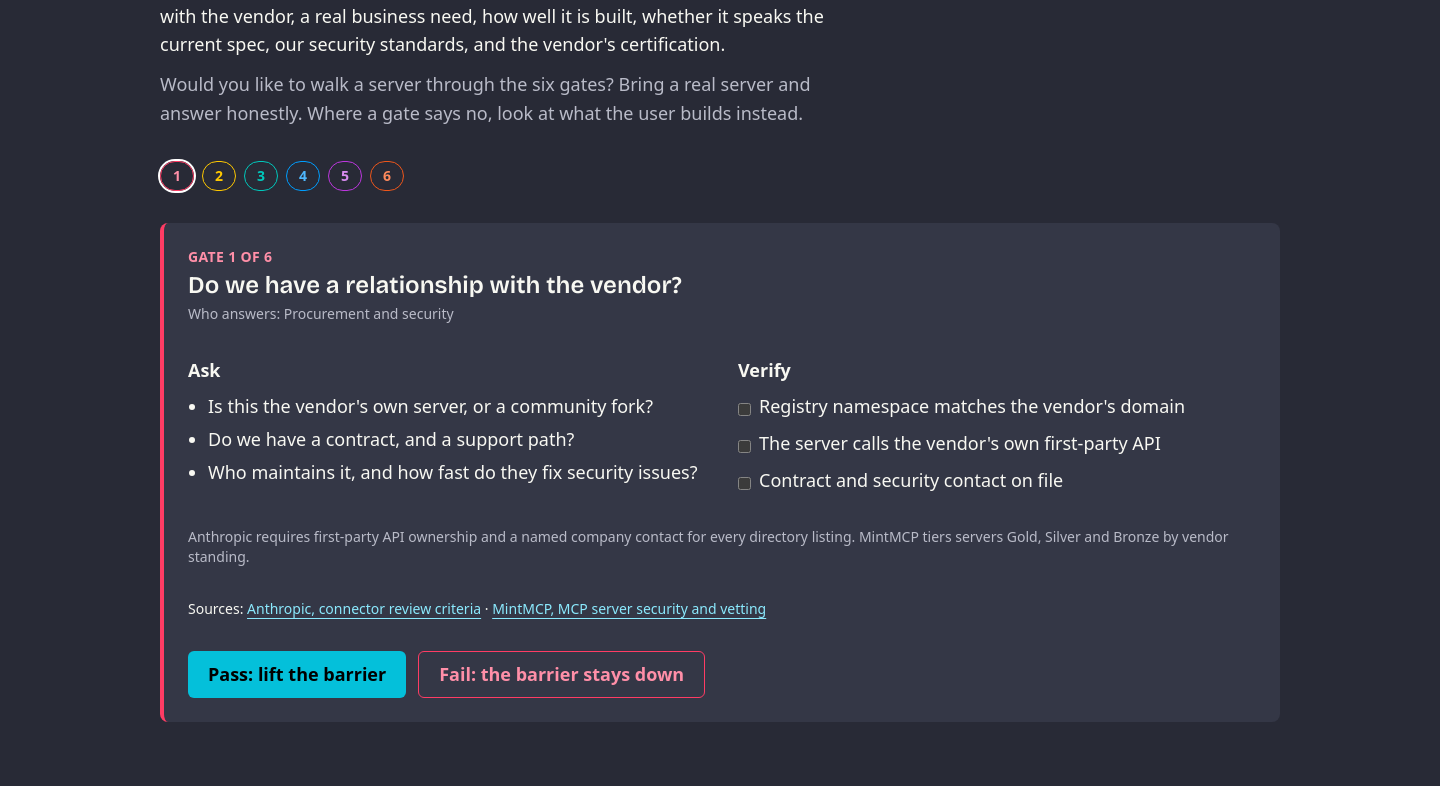
the gate walk › shows the side alley when a gate fails
The width and height of the screenshot is (1440, 786).
(page scrolled)
Click the button "Pass: lift the barrier" at point(297, 674), box [188,651,406,698]
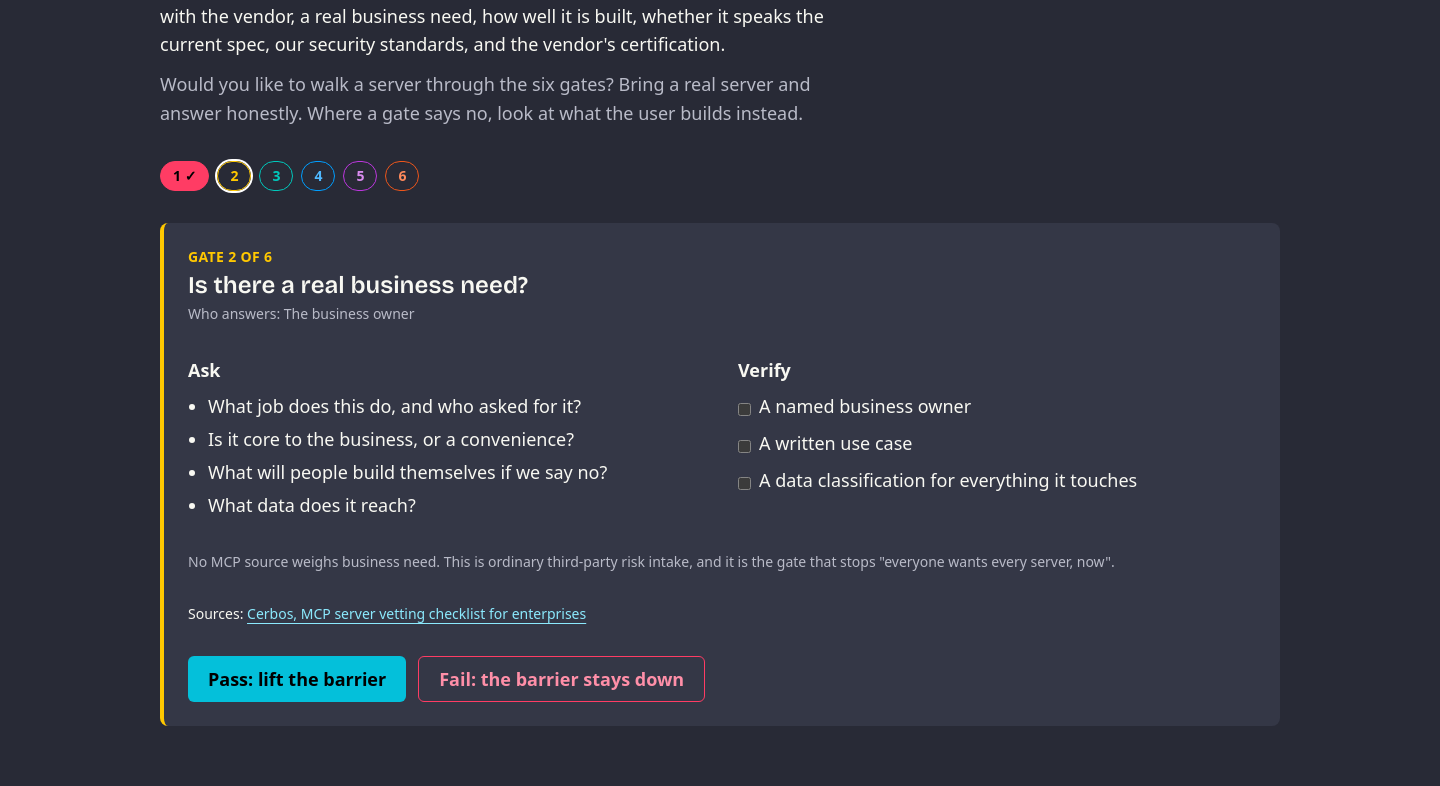
Click the button "Pass: lift the barrier" at point(297, 679), box [188,656,406,702]
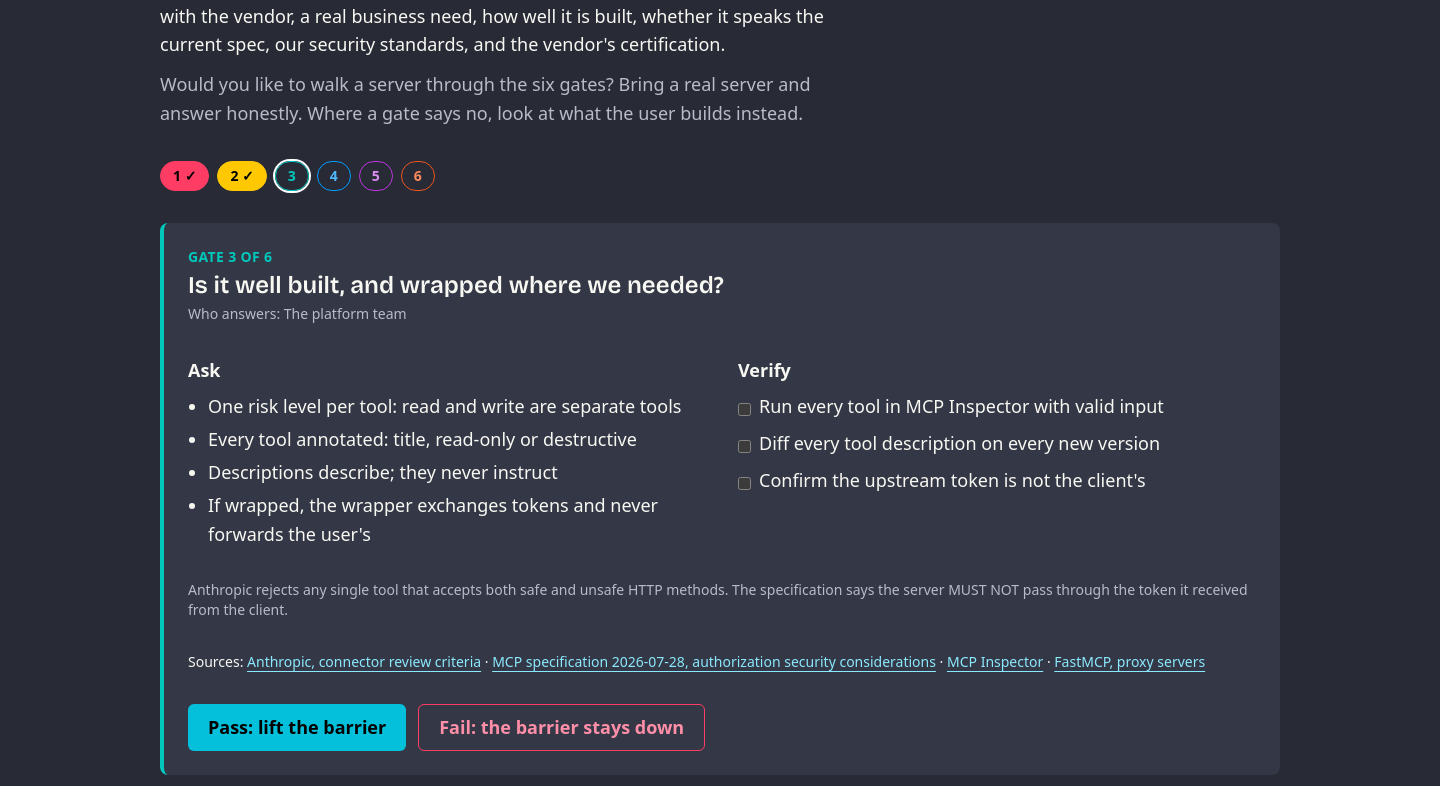
Click the button "Fail: the barrier stays down" at point(562, 728), box [418,704,705,751]
(page scrolled)
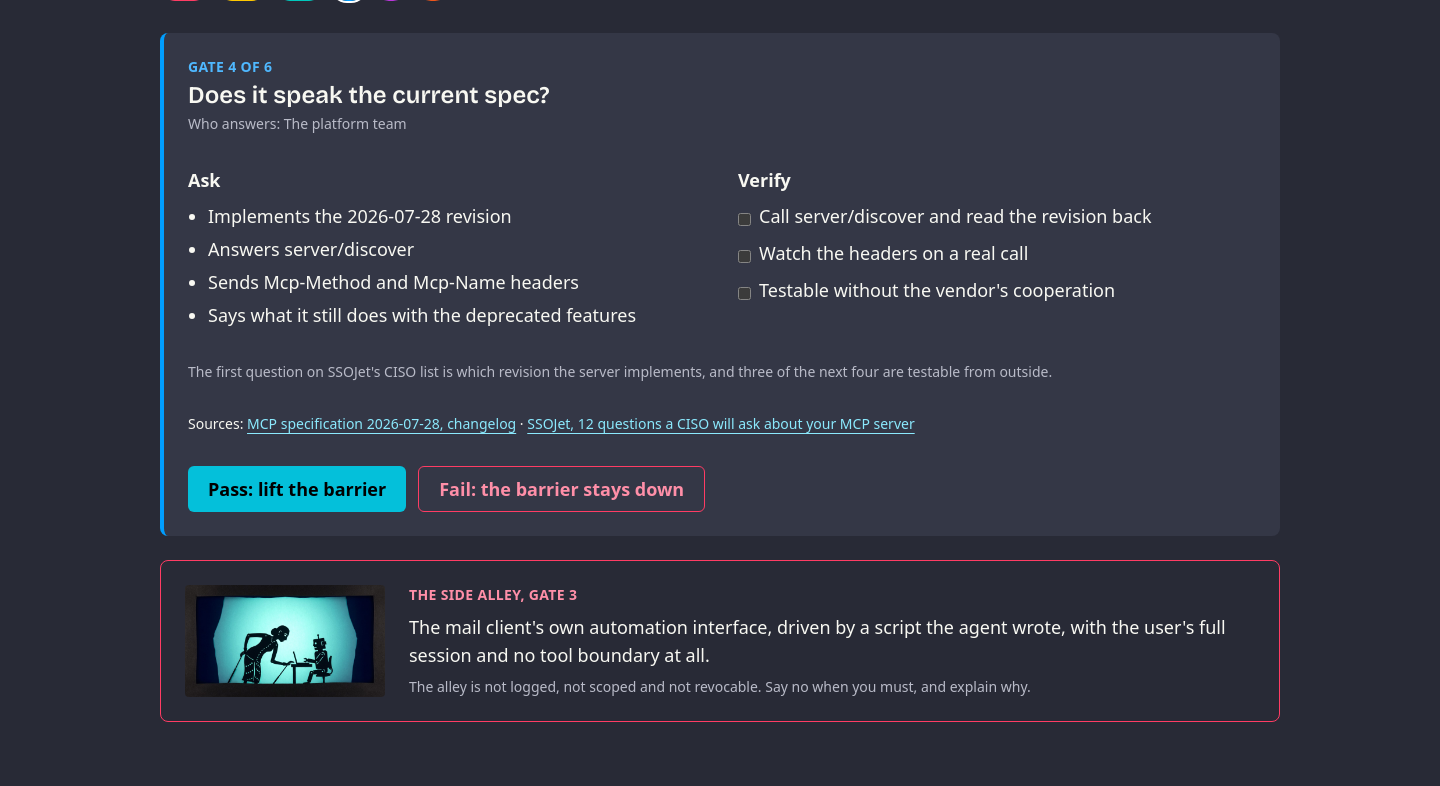
expect the element with test id "alley" shows "gate 3": met, box [160,560,1280,722]
expect the element with test id "alley" shows "not logged, not scoped and not revocable": met, box [409,677,1031,696]
